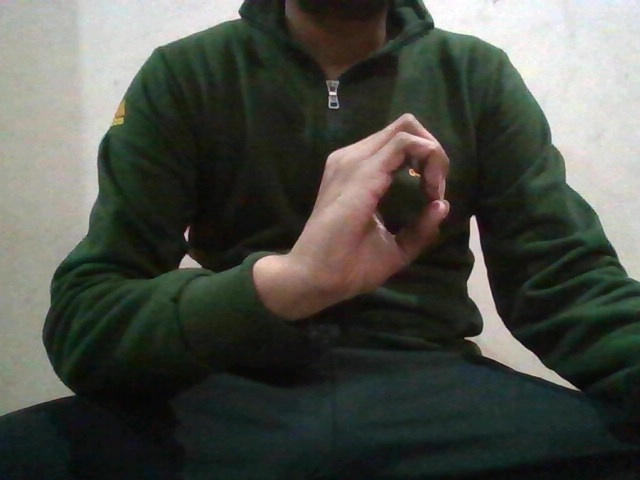O: (289, 108, 453, 288)
